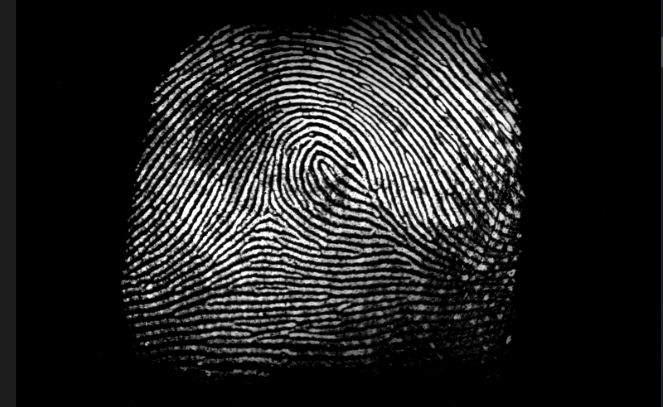deltas: (242, 187, 289, 238)
nucleo: (298, 138, 349, 187)
